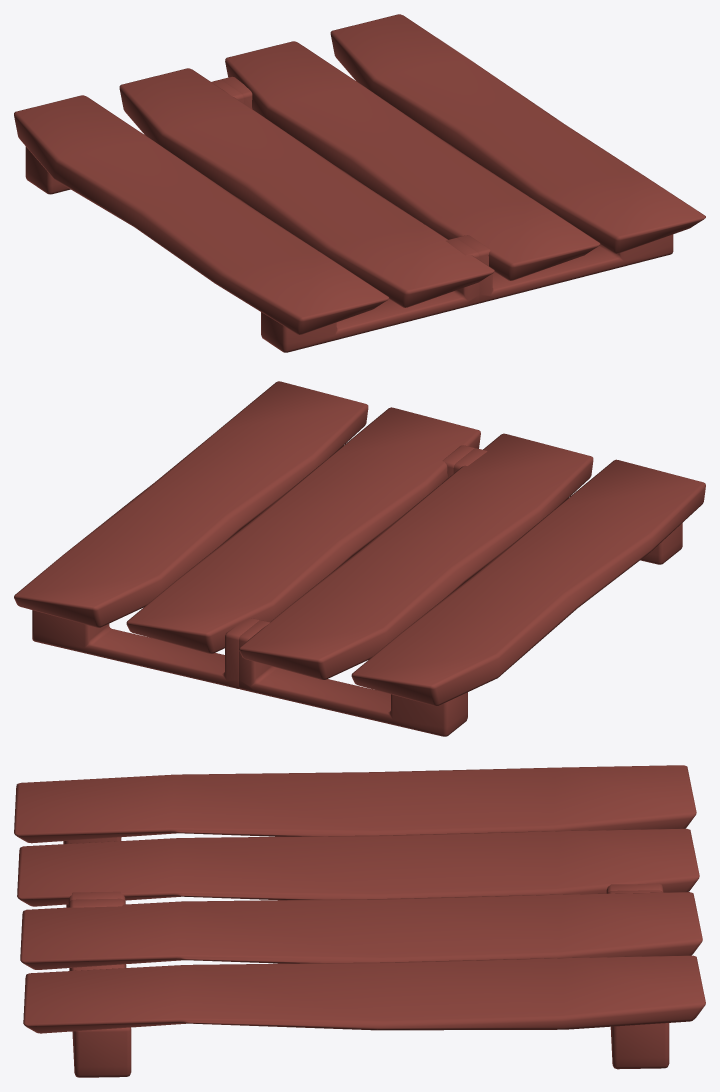
The model's file is Pallet_Outside.glb.
The picture shows the model from 3 angles, top to bottom: view 1: azimuth 30°, elevation 25°; view 2: azimuth 150°, elevation 25°; view 3: azimuth 270°, elevation 25°; orthographic projection. The views are drawn at different scales.
Visible parts, largest first — view 1: Pallet_Outside; view 2: Pallet_Outside; view 3: Pallet_Outside.
Boxes of the visible parts, left/top/right/bottom form: Pallet_Outside: left=14, top=14, right=705, bottom=352; Pallet_Outside: left=14, top=381, right=705, bottom=736; Pallet_Outside: left=14, top=765, right=705, bottom=1077.
Bounding box in the file's own units: 0.822 × 0.1075 × 0.9349.
1 material, 1 textured.
